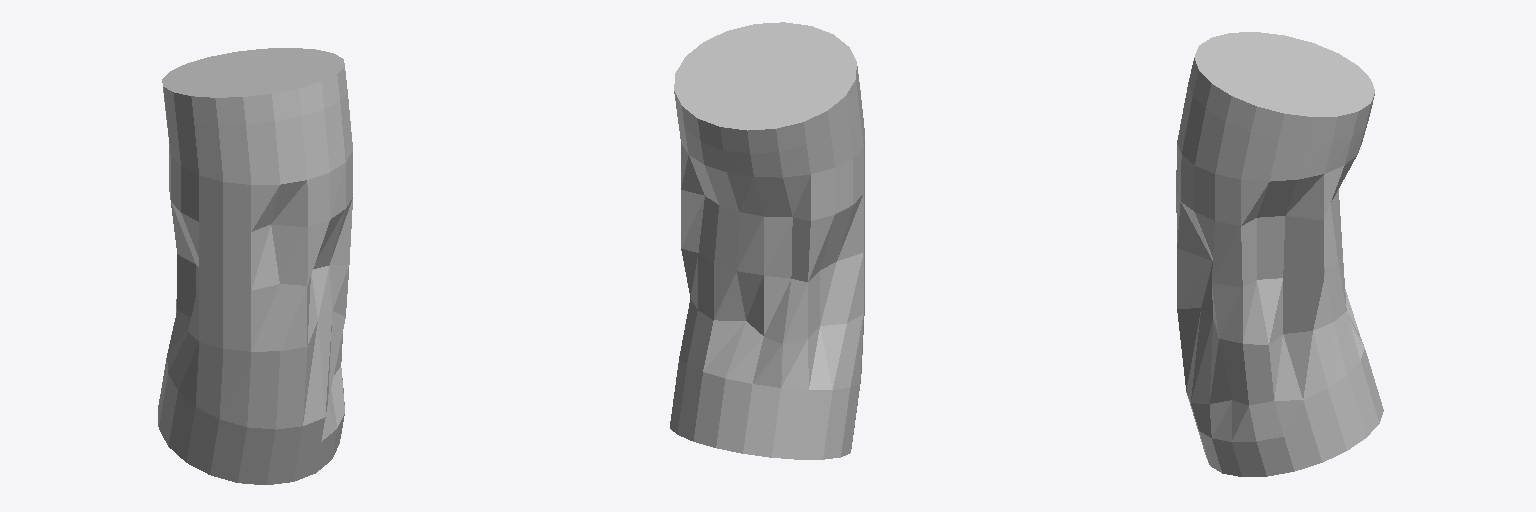
Rendered from redbullCrushed.obj.
The picture shows the model from 3 angles: view 1: azimuth 30°, elevation 25°; view 2: azimuth 150°, elevation 25°; view 3: azimuth 270°, elevation 25°; orthographic projection.
Visible parts, largest first — view 1: pCylinder1; view 2: pCylinder1; view 3: pCylinder1.
Part boxes in pixels (left/top/right/bottom): pCylinder1: left=158, top=48, right=352, bottom=484; pCylinder1: left=670, top=22, right=864, bottom=459; pCylinder1: left=1176, top=32, right=1383, bottom=476.
Size of the model in its own units: 1.3 by 3.07 by 1.46.